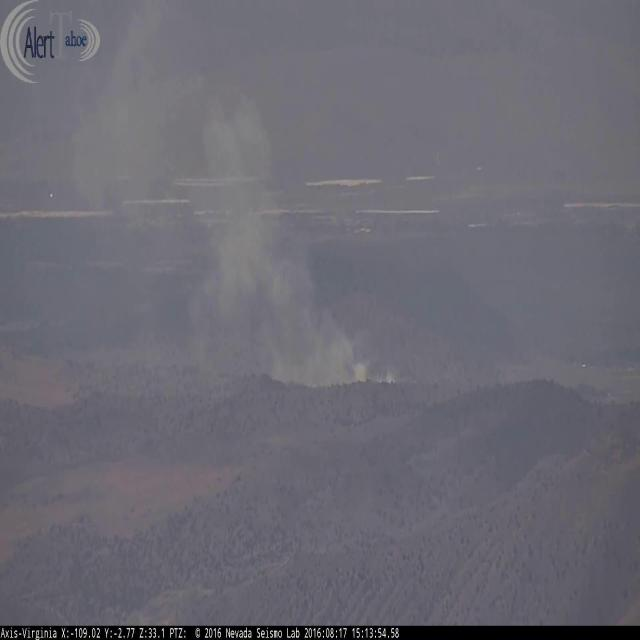smoke: (106, 7, 400, 389)
